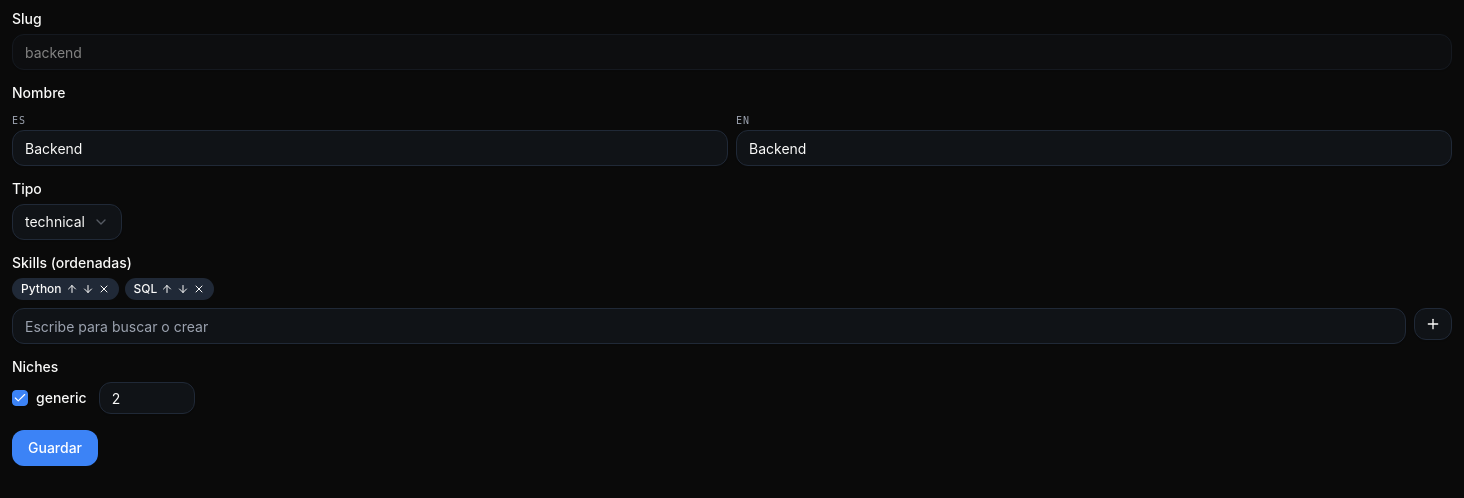
SkillCategoryForm › Given el picker de niches When se desmarca generic Then el payload pierde el niche
What coordinates should you click on to do the following:
click the checkbox with test id "niche-checkbox-generic"
I would click on:
 (20, 398)
Its box is [12,390,28,406].
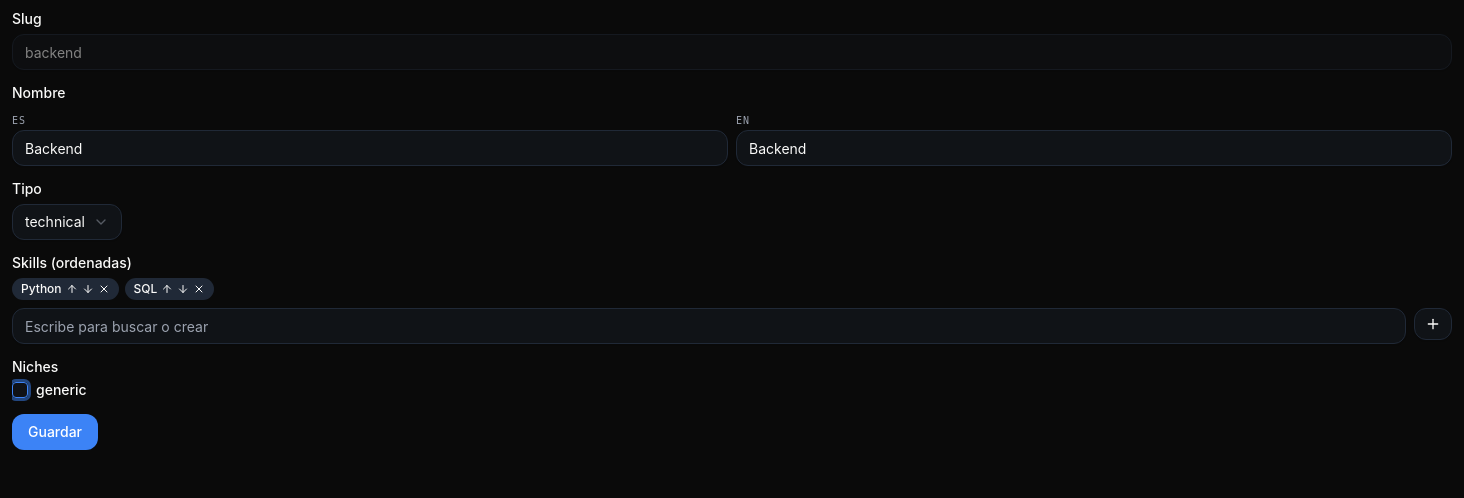
What coordinates should you click on to do the following:
click the button with test id "cv-form-submit"
I would click on:
 (55, 432)
Its box is [12,414,98,450].
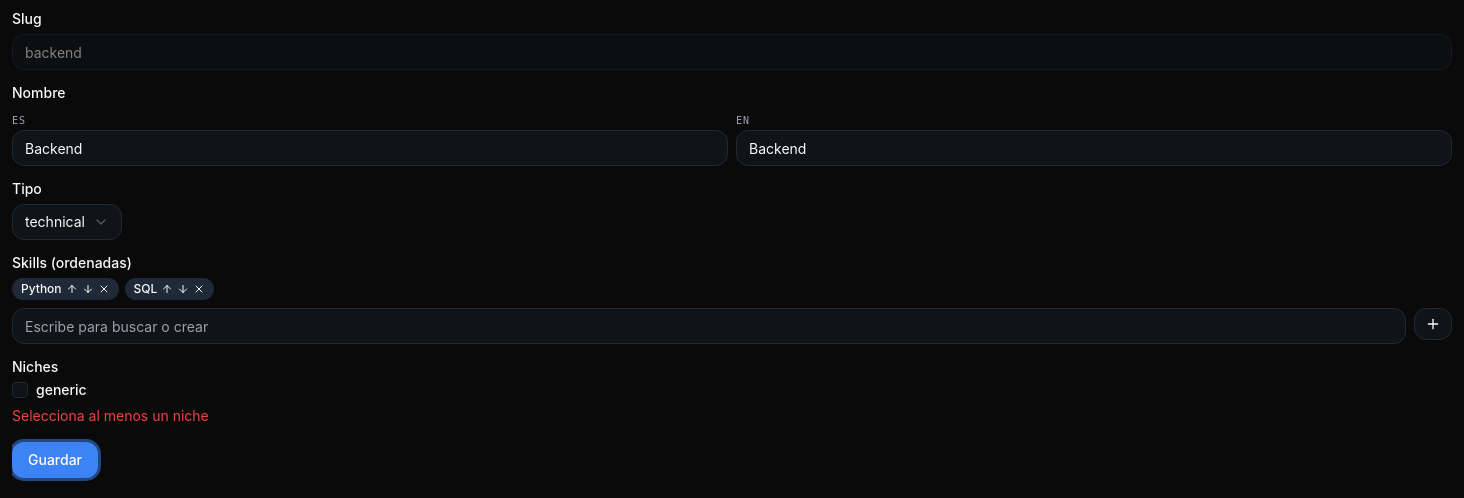
Check: the text "Selecciona al menos un niche" is shown, box [12,407,209,424]
